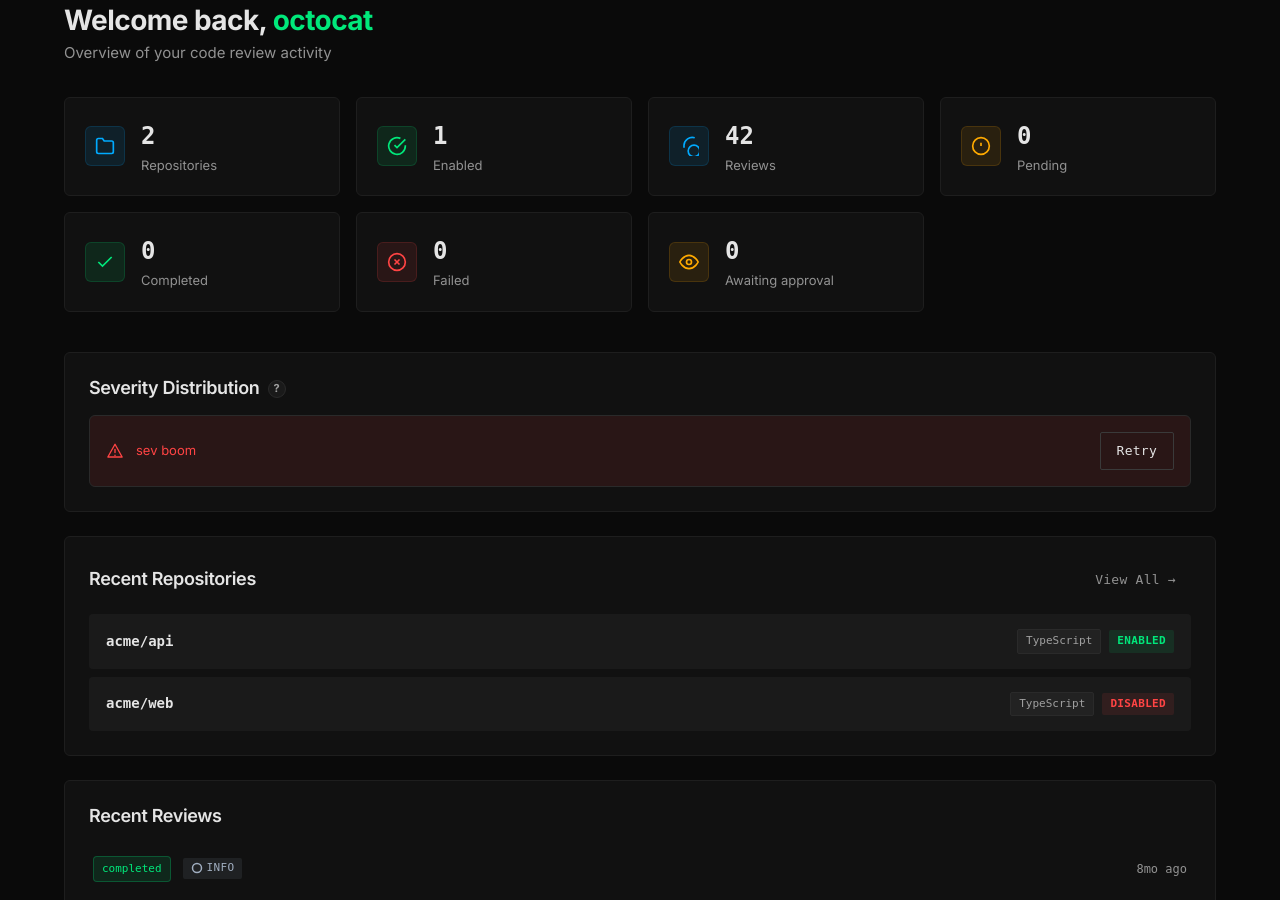
Test: DashboardComponent — real API data (plan Step 10) › recovers the severity section independently via its own retry
(page scrolled)
Click the button "Retry" at coordinates (1137, 451), box [1100,432,1174,470]
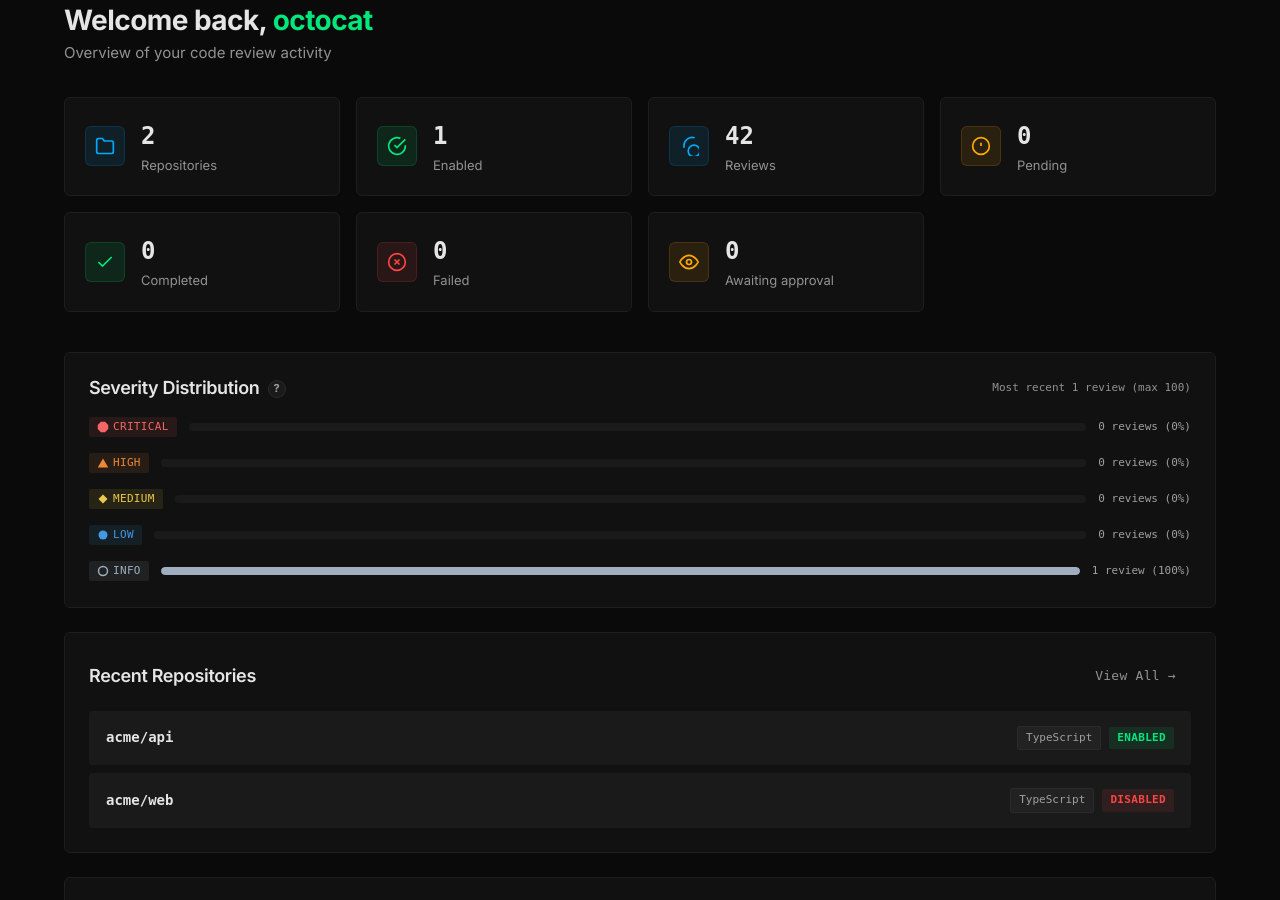
Expected: the message with test id "severity-error" is gone
Expected: the element with test id "severity-chart" is shown, [89,415,1191,583]
